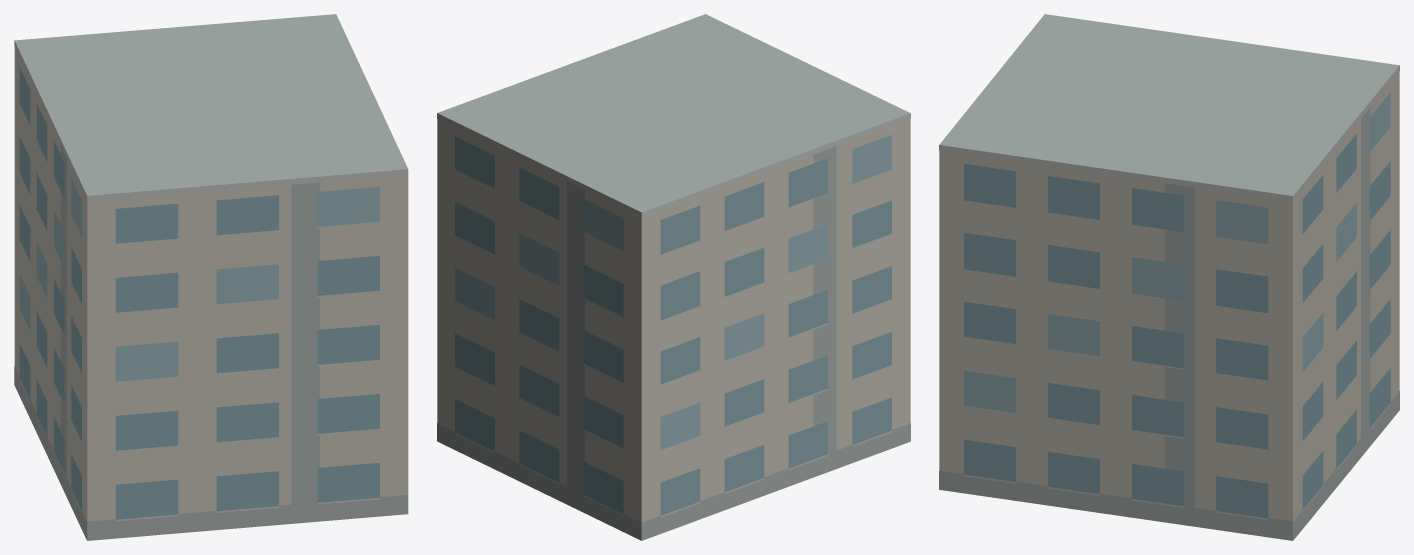
Rendered from survey-upis-32886764.glb.
3 renders of one model, left to right at view 1: azimuth 30°, elevation 25°; view 2: azimuth 150°, elevation 25°; view 3: azimuth 270°, elevation 25°, orthographic. The views are drawn at different scales.
Parts seen in each view (by area): view 1: survey-upis-32886764.tmp; view 2: survey-upis-32886764.tmp; view 3: survey-upis-32886764.tmp.
Part boxes in pixels (x1=…): survey-upis-32886764.tmp: x1=14, y1=14, x2=408, y2=540; survey-upis-32886764.tmp: x1=437, y1=14, x2=910, y2=540; survey-upis-32886764.tmp: x1=939, y1=14, x2=1399, y2=540.
Size of the model in its own units: 16.2 by 14.3 by 17.32.
